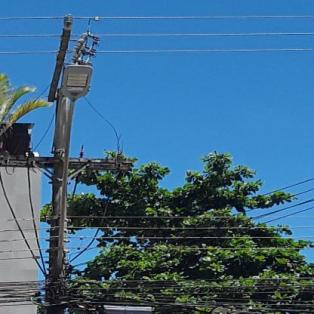Poste: (14, 85, 88, 314)
